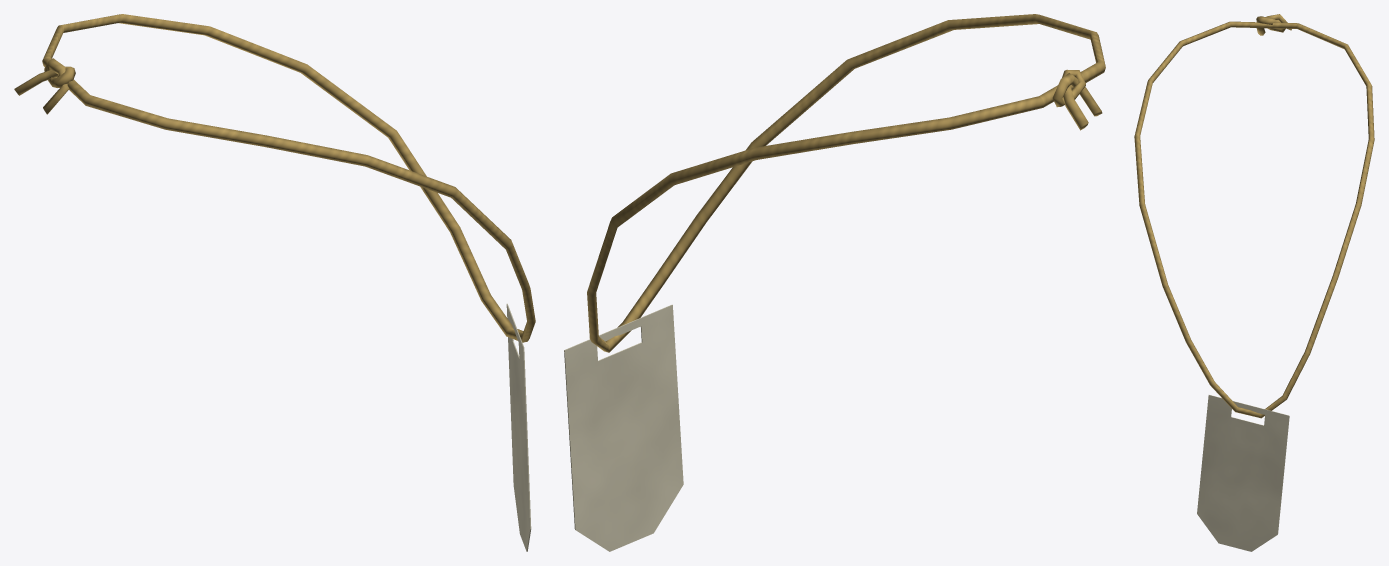
Rendered from tag-droplet.glb.
The picture shows the model from 3 angles, left to right: view 1: azimuth 30°, elevation 25°; view 2: azimuth 150°, elevation 25°; view 3: azimuth 270°, elevation 25°; orthographic projection. The views are drawn at different scales.
Parts seen in each view (by area): view 1: string-droplet, tag-droplet; view 2: tag-droplet, string-droplet; view 3: tag-droplet, string-droplet.
Boxes of the visible parts, left/top/right/bottom form: string-droplet: left=14, top=14, right=535, bottom=342; tag-droplet: left=506, top=303, right=531, bottom=551; tag-droplet: left=564, top=304, right=683, bottom=551; string-droplet: left=587, top=14, right=1105, bottom=352; tag-droplet: left=1197, top=395, right=1289, bottom=551; string-droplet: left=1134, top=14, right=1374, bottom=418.
Bounding box in the file's own units: 0.0568 × 0.0627 × 0.0351.
Materials: 2 (2 with a texture image).
